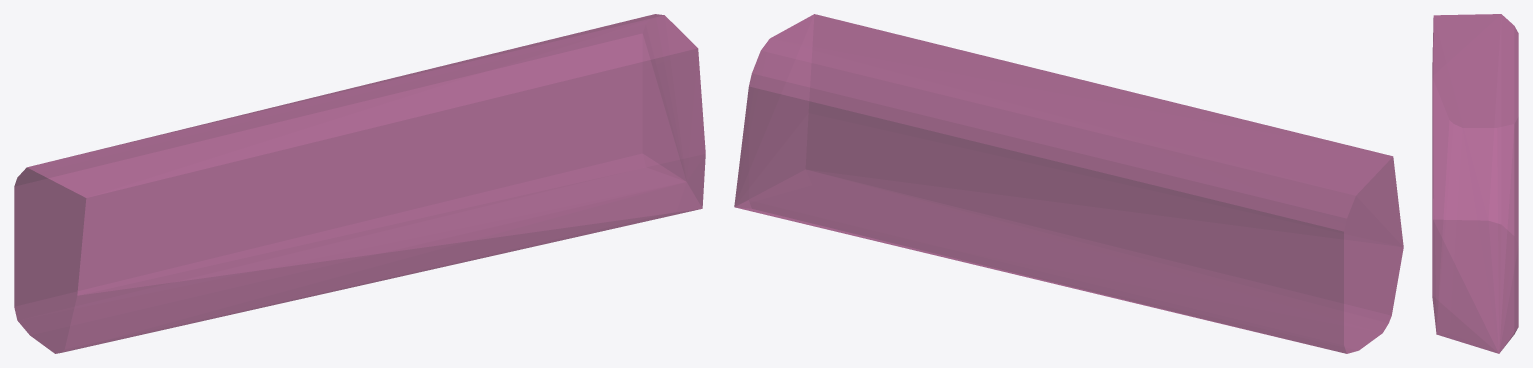
3 views of the same model, side by side, from view 1: azimuth 30°, elevation 25°; view 2: azimuth 150°, elevation 25°; view 3: azimuth 270°, elevation 25° (orthographic). The views are drawn at different scales.
Visible parts, largest first — view 1: Shape_IndexedFaceSet.007_Shape_IndexedFaceSet.9142; view 2: Shape_IndexedFaceSet.007_Shape_IndexedFaceSet.9142; view 3: Shape_IndexedFaceSet.007_Shape_IndexedFaceSet.9142.
Part boxes in pixels (<box>): Shape_IndexedFaceSet.007_Shape_IndexedFaceSet.9142: <box>14,14,705,353</box>; Shape_IndexedFaceSet.007_Shape_IndexedFaceSet.9142: <box>734,14,1403,353</box>; Shape_IndexedFaceSet.007_Shape_IndexedFaceSet.9142: <box>1432,14,1518,353</box>.
Size of the model in its own units: 0.3234 by 0.0844 by 0.0537.
